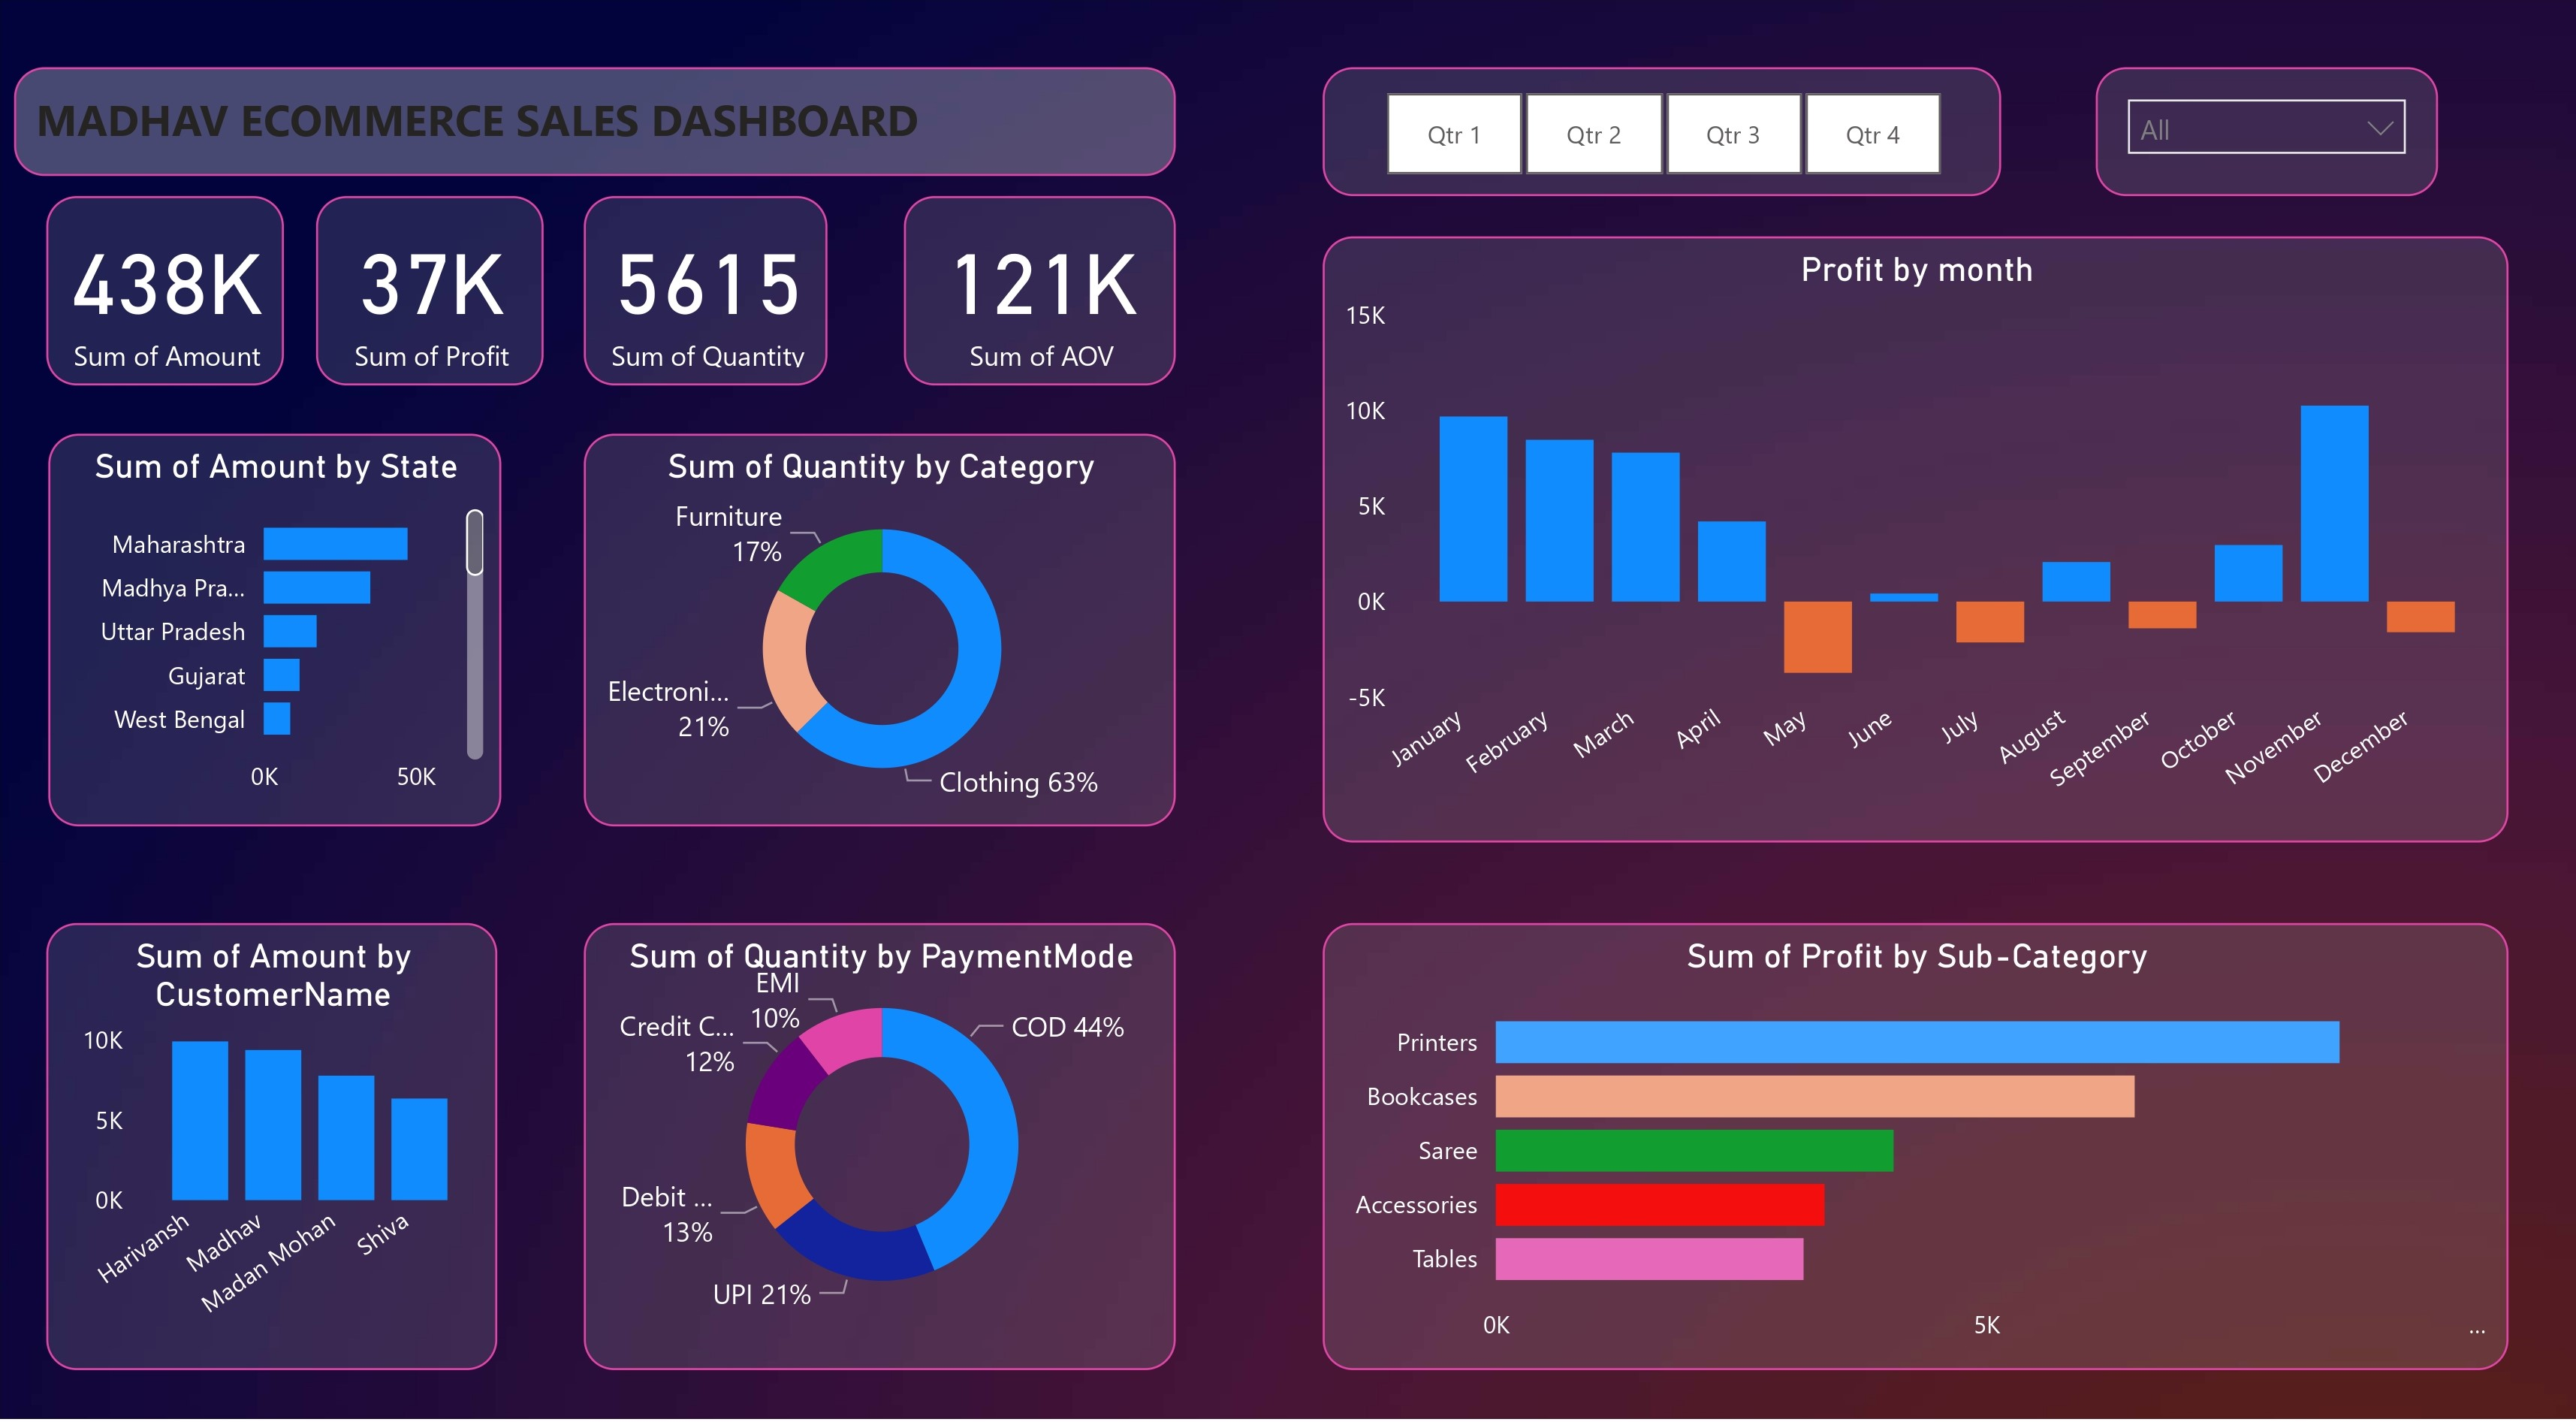

What the dashboard file says about the page in this screenshot:
{"tool":"powerbi","page":{"name":"Page 1","canvas":[1280,720],"ordinal":0},"visuals":[{"type":"textbox","box":[7.1,38.6,577.1,54.3],"z":4},{"type":"columnChart","title":"Profit by month","fields":{"Y":["Details.Profit"],"Category":["Orders.Order Date.Variation.Date Hierarchy.Month"]},"box":[657.1,122.9,588.6,301.4],"z":5},{"type":"clusteredBarChart","fields":{"Category":["Details.Sub-Category"],"Y":["Details.Profit"]},"box":[657.1,464.3,588.6,221.4],"z":6},{"type":"donutChart","fields":{"Category":["Details.Category"],"Y":["Details.Quantity"]},"box":[290,221.4,294.3,194.3],"z":7},{"type":"donutChart","fields":{"Y":["Details.Quantity"],"Category":["Details.PaymentMode"]},"box":[290,464.3,294.3,221.4],"z":8},{"type":"card","fields":{"Values":["Details.Amount"]},"box":[22.9,102.9,118.6,94.3],"z":9},{"type":"card","fields":{"Values":["Details.Profit"]},"box":[157.1,102.9,112.9,94.3],"z":10},{"type":"card","fields":{"Values":["Details.Quantity"]},"box":[290,102.9,121.4,94.3],"z":11},{"type":"card","fields":{"Values":["Details.AOV"]},"box":[448.6,102.9,135.7,94.3],"z":12},{"type":"clusteredBarChart","fields":{"Category":["Orders.State"],"Y":["Details.Amount"]},"box":[24.3,221.4,224.3,194.3],"z":13},{"type":"columnChart","fields":{"Category":["Orders.CustomerName"],"Y":["Details.Amount"]},"box":[22.9,464.3,224.3,221.4],"z":14},{"type":"slicer","fields":{"Values":["Orders.Order Date.Variation.Date Hierarchy.Quarter"]},"box":[657.1,38.6,337.1,64.3],"z":15},{"type":"slicer","fields":{"Values":["Orders.State"]},"box":[1041.4,38.6,170,64.3],"z":16}]}

Visuals, with their boxes in screenshot pixels (x1, y1, x2, y2), scaled from the page's 1280x720 canvas onto the 2576x1422 screenshot:
textbox: [left=14, top=76, right=1175, bottom=183]
"Profit by month" columnChart: [left=1323, top=243, right=2507, bottom=838]
clusteredBarChart - Details.Sub-Category x Details.Profit: [left=1323, top=917, right=2507, bottom=1354]
donutChart - Details.Category x Details.Quantity: [left=584, top=437, right=1176, bottom=821]
donutChart - Details.Quantity x Details.PaymentMode: [left=584, top=917, right=1176, bottom=1354]
card - Details.Amount: [left=46, top=204, right=285, bottom=389]
card - Details.Profit: [left=316, top=204, right=544, bottom=389]
card - Details.Quantity: [left=584, top=204, right=828, bottom=389]
card - Details.AOV: [left=903, top=204, right=1176, bottom=389]
clusteredBarChart - Orders.State x Details.Amount: [left=49, top=437, right=500, bottom=821]
columnChart - Orders.CustomerName x Details.Amount: [left=46, top=917, right=497, bottom=1354]
slicer - Orders.Order Date.Variation.Date Hierarchy.Quarter: [left=1323, top=76, right=2001, bottom=204]
slicer - Orders.State: [left=2096, top=76, right=2438, bottom=204]
